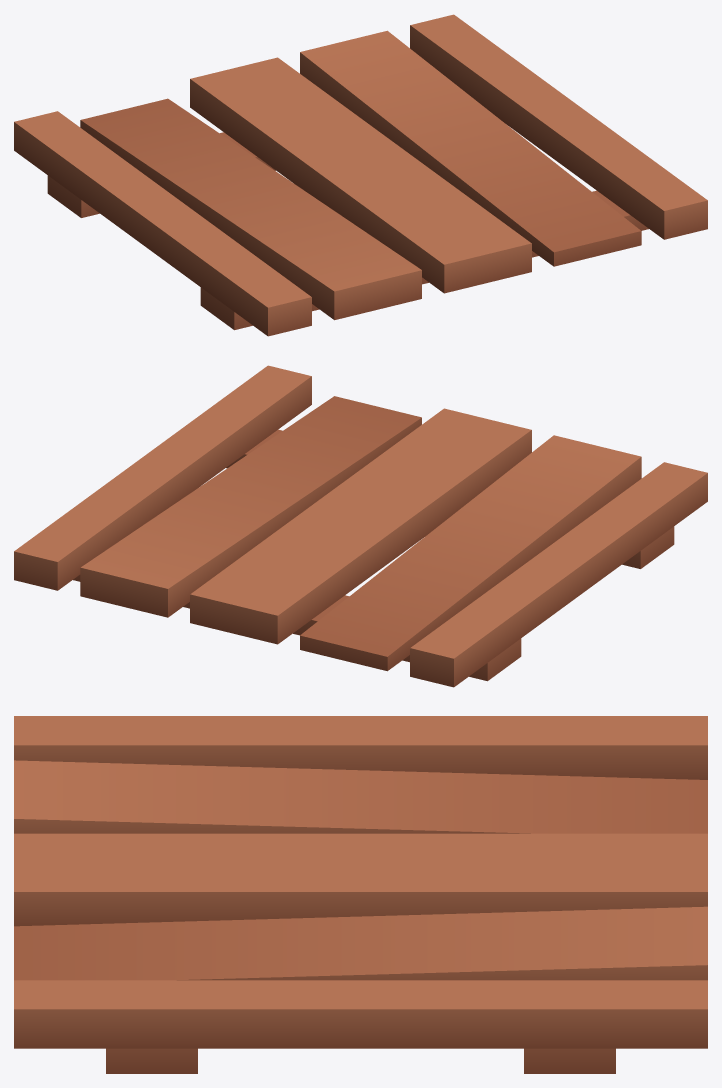
File: floor-old.glb
3 renders of one model, top to bottom at view 1: azimuth 30°, elevation 25°; view 2: azimuth 150°, elevation 25°; view 3: azimuth 270°, elevation 25°, orthographic. The views are drawn at different scales.
Parts seen in each view (by area): view 1: floor-old; view 2: floor-old; view 3: floor-old.
Boxes of the visible parts, bbox=[...] form: floor-old: bbox=[14, 14, 707, 336]; floor-old: bbox=[14, 365, 707, 687]; floor-old: bbox=[14, 716, 707, 1073].
Size of the model in its own units: 0.5 by 0.0512 by 0.5.
